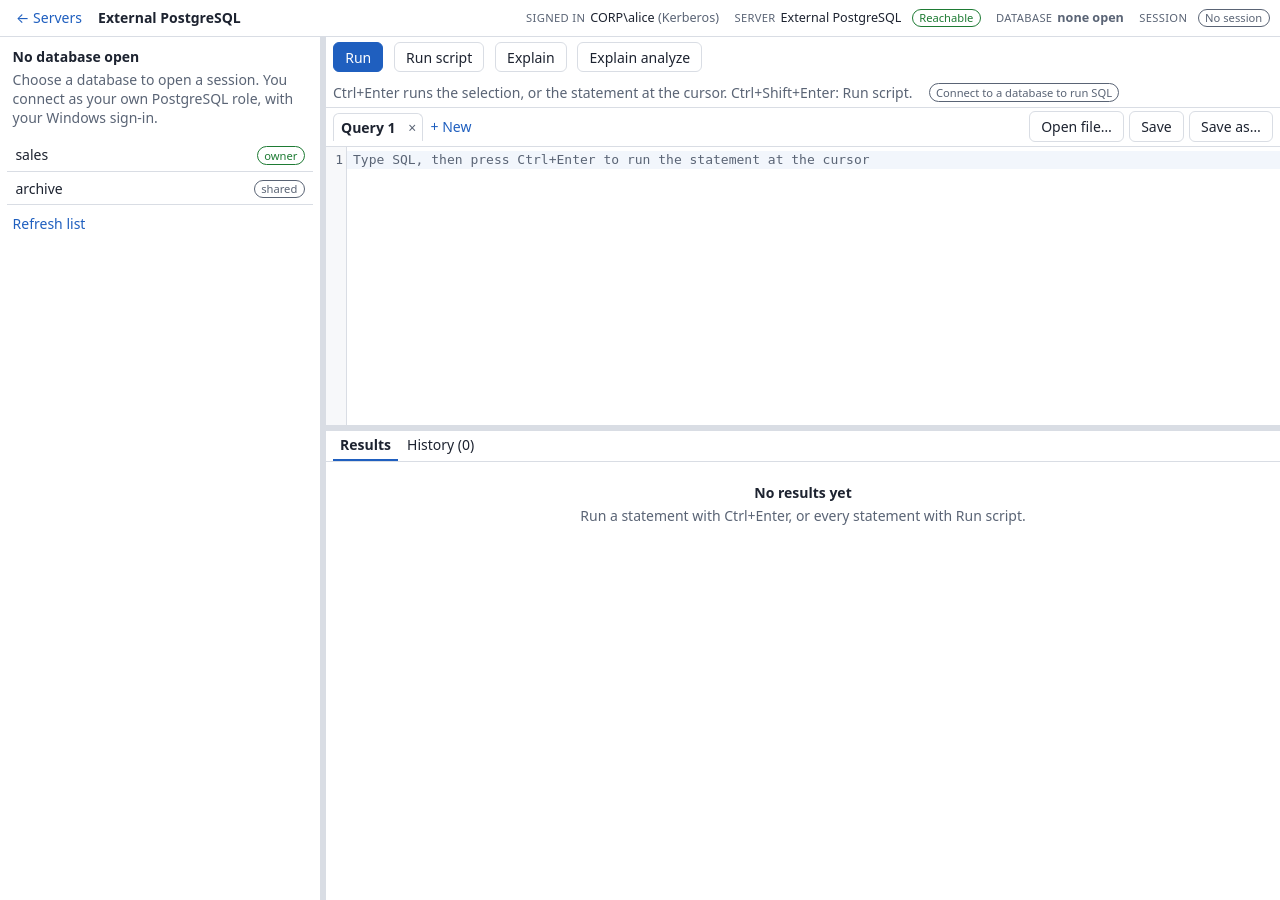
Test: Workspace editor (admin Phase 2) › refreshes the explorer once a change to objects is committed
Click the button "sales owner": point(32, 155) 7,139 -> 313,172
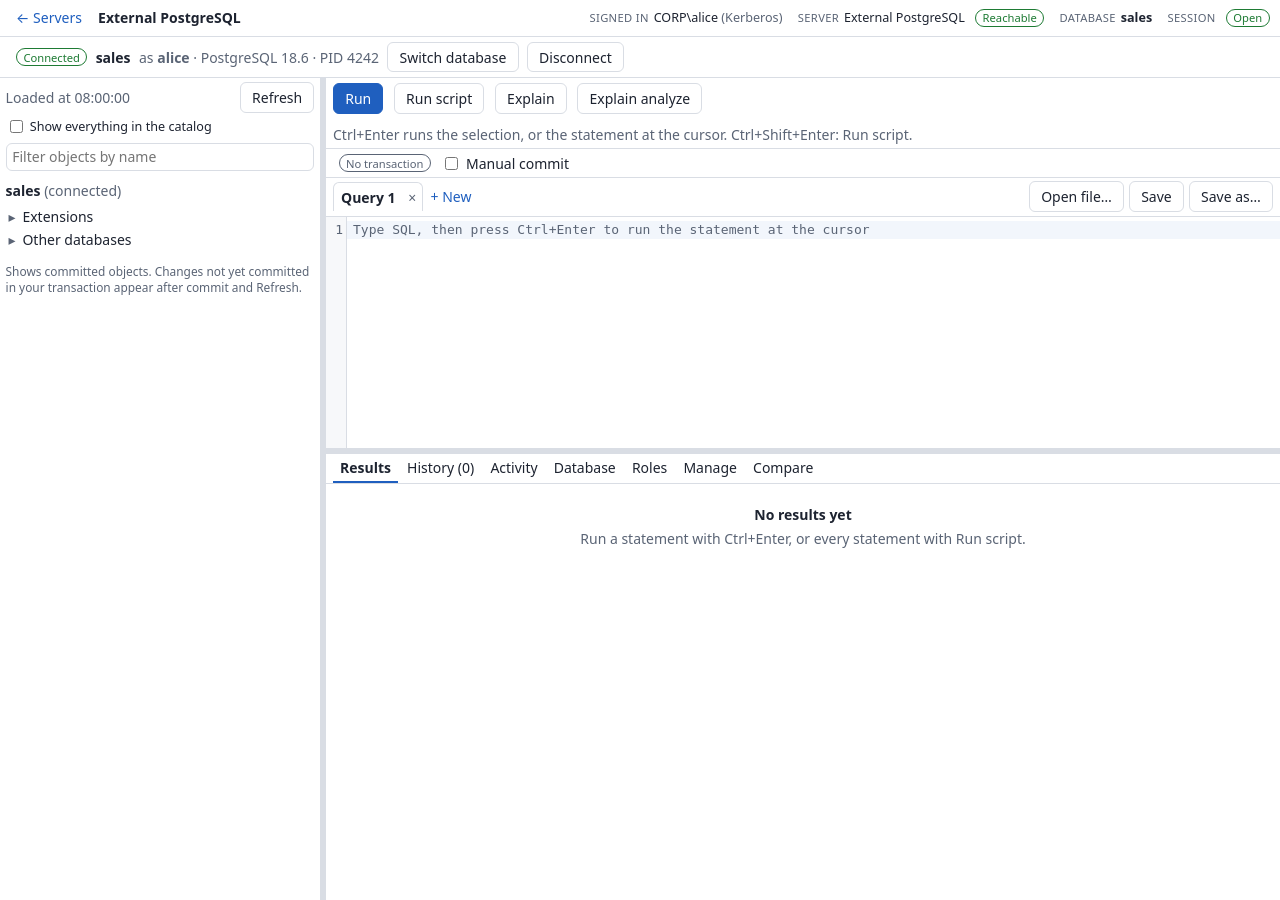
Expected: the field named "SQL editor" is shown, 347,221 -> 1279,239
Now the button "Switch database" is shown, box 387,42 -> 518,72
Click the button "Run": point(358, 99) 333,83 -> 383,114
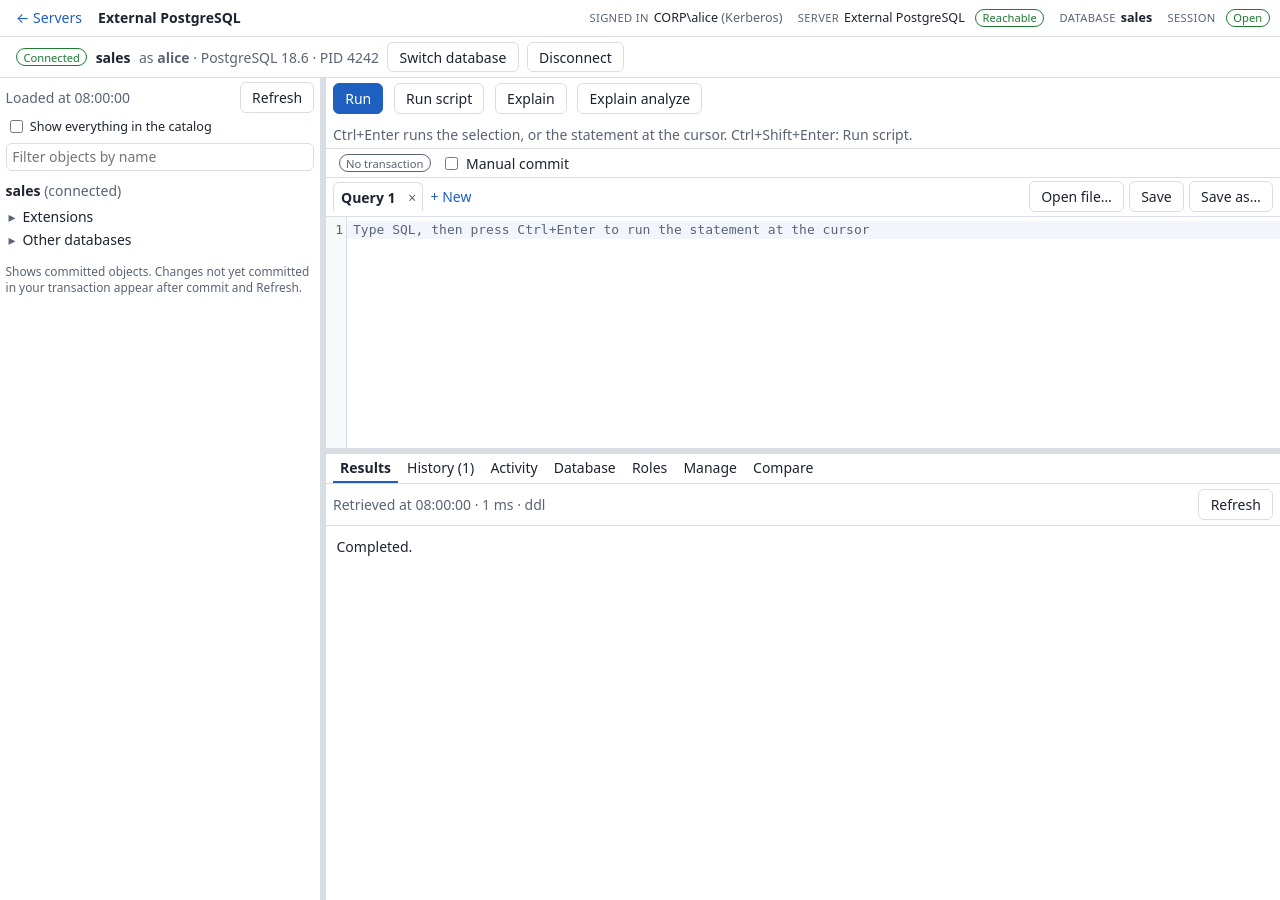
Click the button "Run": point(358, 99) 333,83 -> 383,114
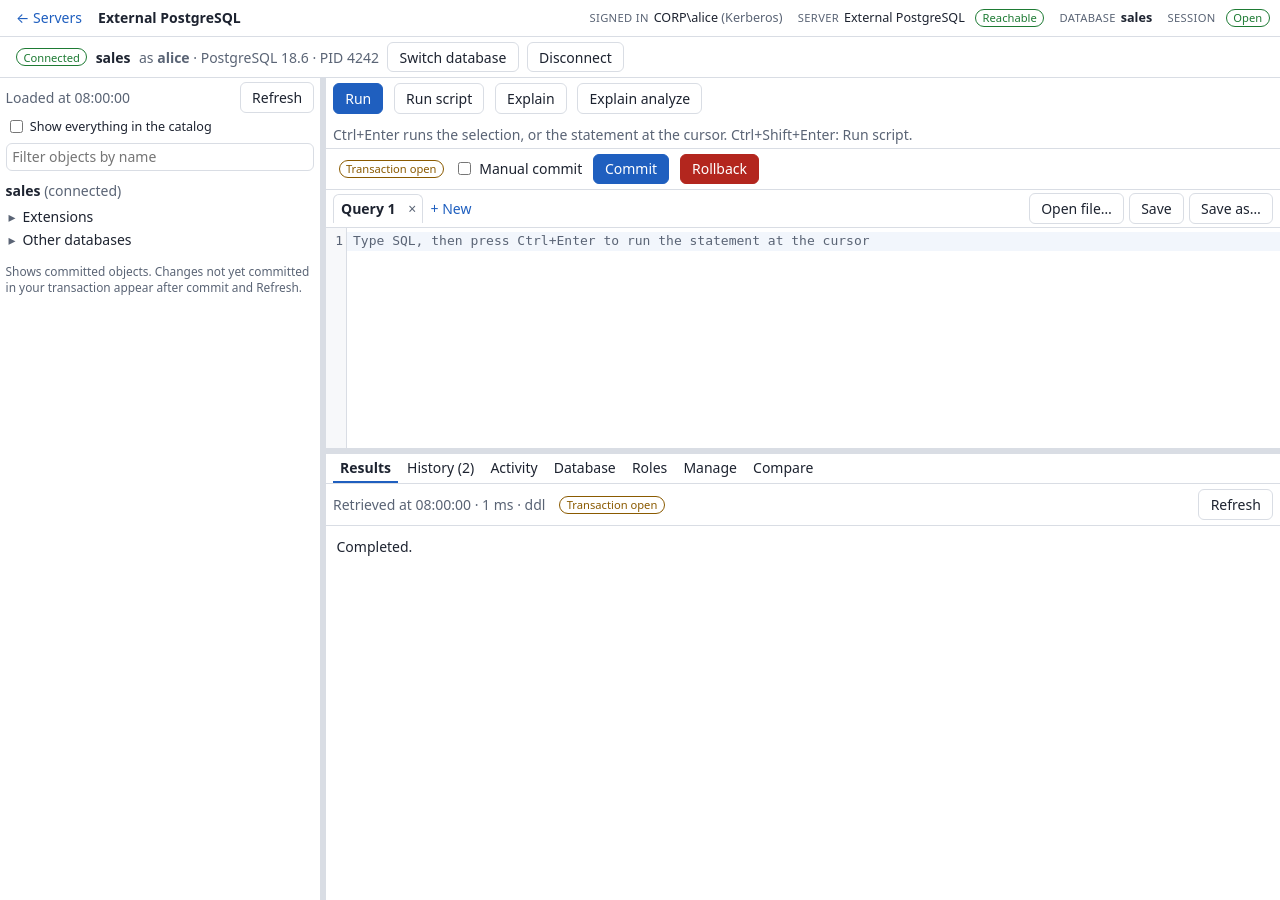
Now the button "Commit" is shown
Click the button "Commit": point(631, 169) 593,154 -> 669,184
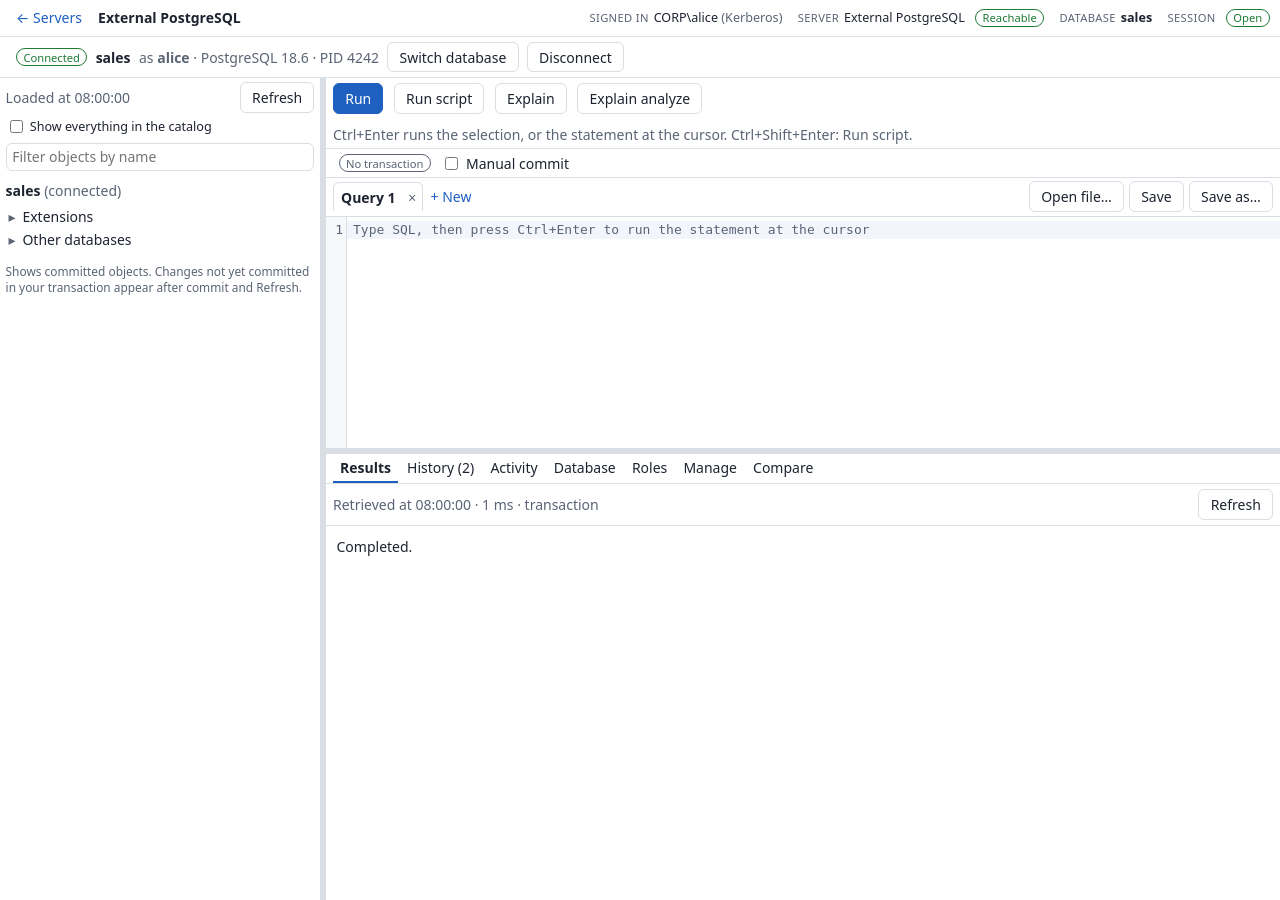
Click the button "Run": point(358, 99) 333,83 -> 383,114
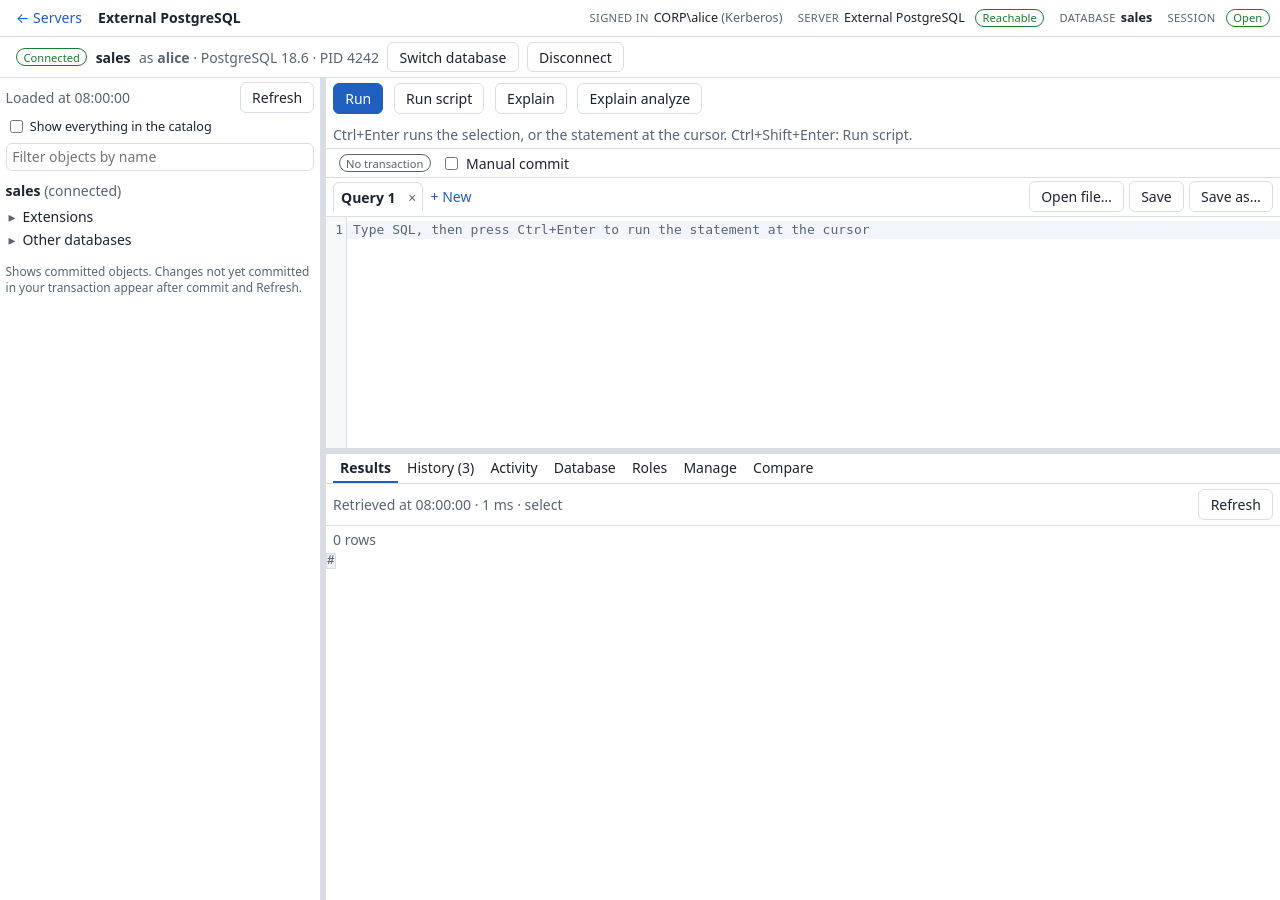
Now the text "0 rows" is shown, box 333,530 -> 376,549
